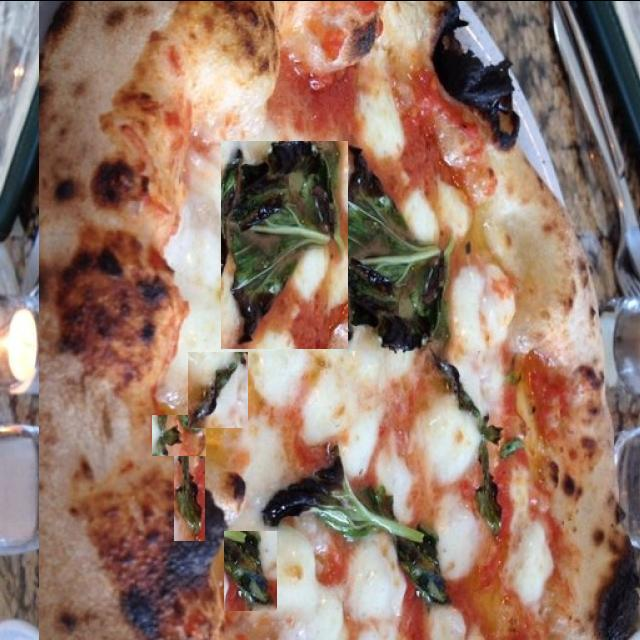basil: (221, 140, 348, 348), (254, 445, 421, 548), (320, 153, 410, 338), (188, 351, 248, 427), (224, 530, 277, 610), (174, 435, 205, 540), (152, 414, 206, 455)
pizza: (39, 0, 640, 639)
